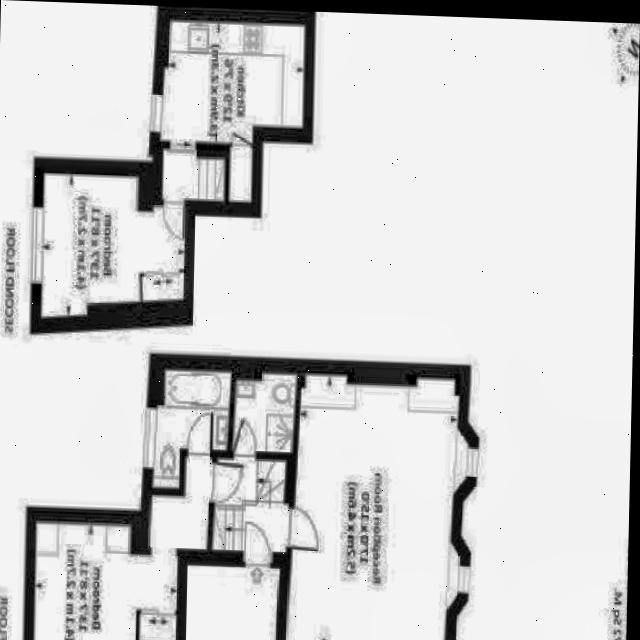room: (286, 372, 470, 640), (33, 453, 211, 640), (41, 174, 185, 319), (159, 20, 306, 146), (152, 369, 231, 490), (211, 458, 283, 552), (230, 372, 295, 454), (161, 158, 224, 201), (229, 150, 250, 202)
